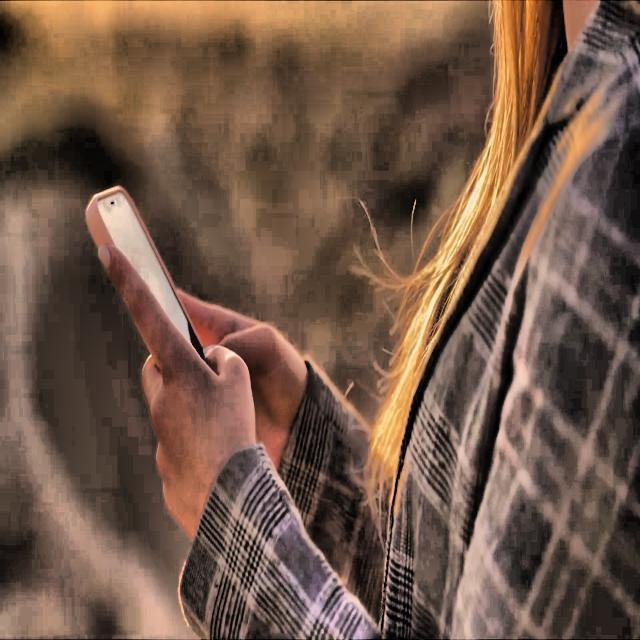Phone: (85, 180, 222, 394)
